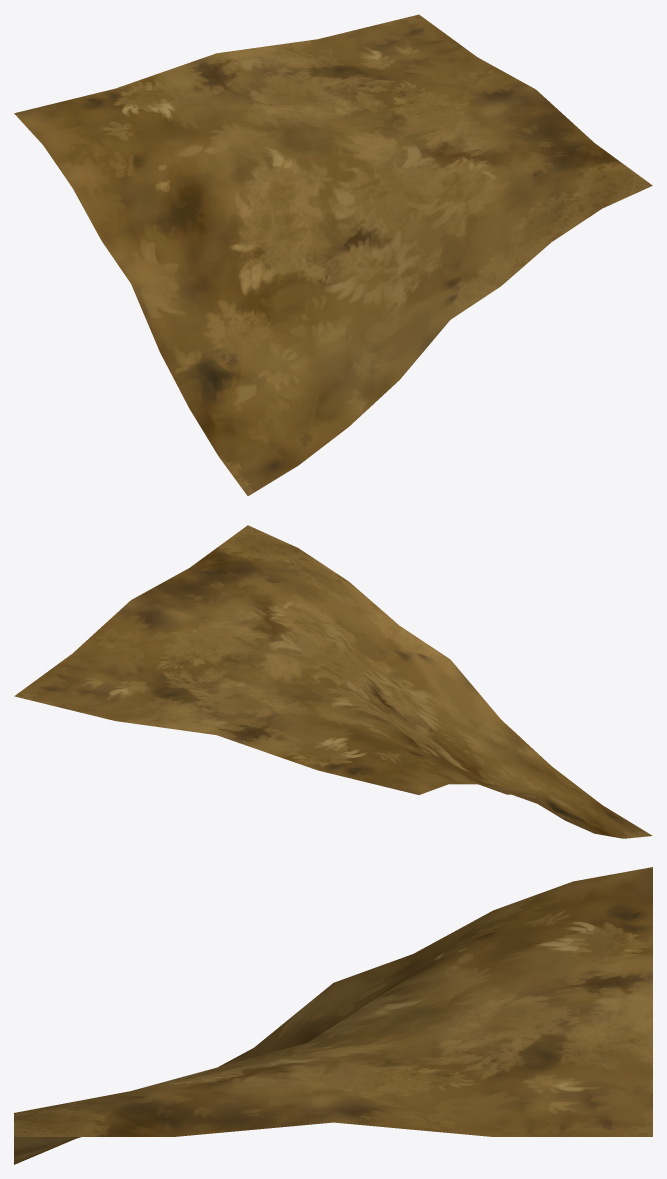
Rendered from Slope_Incline_005.fbx.
3 renders of one model, top to bottom at view 1: azimuth 30°, elevation 25°; view 2: azimuth 150°, elevation 25°; view 3: azimuth 270°, elevation 25°, orthographic. The views are drawn at different scales.
Visible parts, largest first — view 1: Slope_incline_005; view 2: Slope_incline_005; view 3: Slope_incline_005.
Boxes of the visible parts, left/top/right/bottom form: Slope_incline_005: left=14, top=14, right=652, bottom=495; Slope_incline_005: left=14, top=525, right=652, bottom=838; Slope_incline_005: left=14, top=867, right=652, bottom=1164.
Bounding box in the file's own units: 10 × 5.25 × 10.
1 material, 1 textured.
